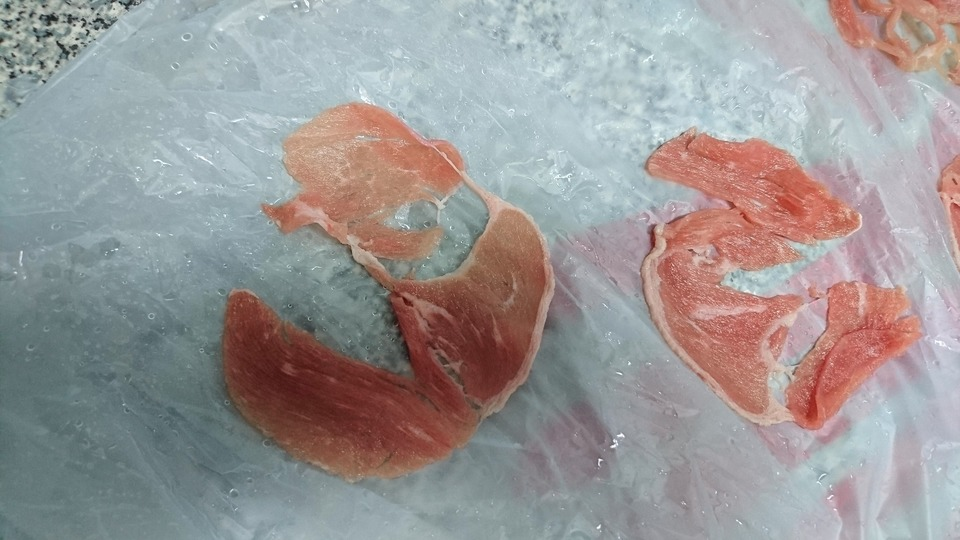restructured meat: (210, 111, 559, 470), (641, 99, 921, 441)
